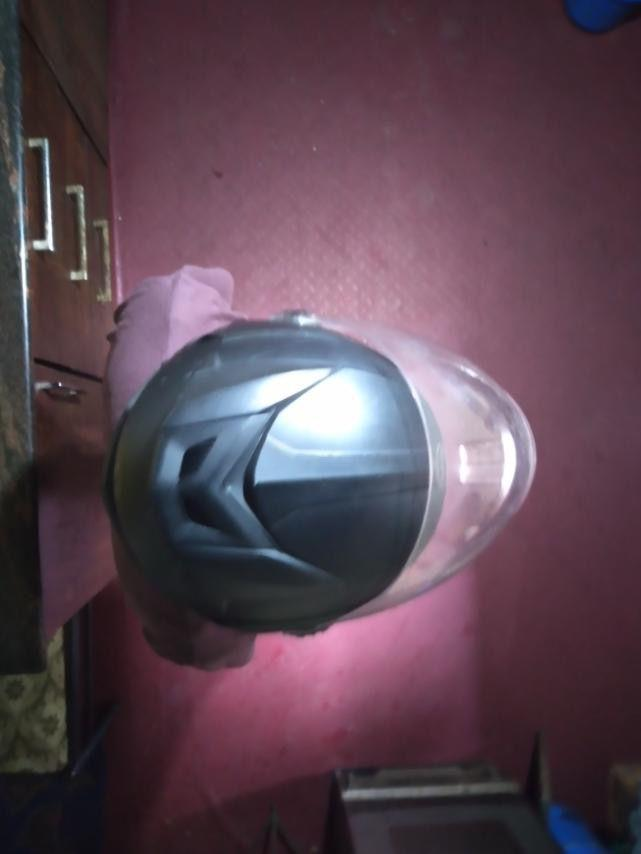helmet: (106, 308, 540, 637)
